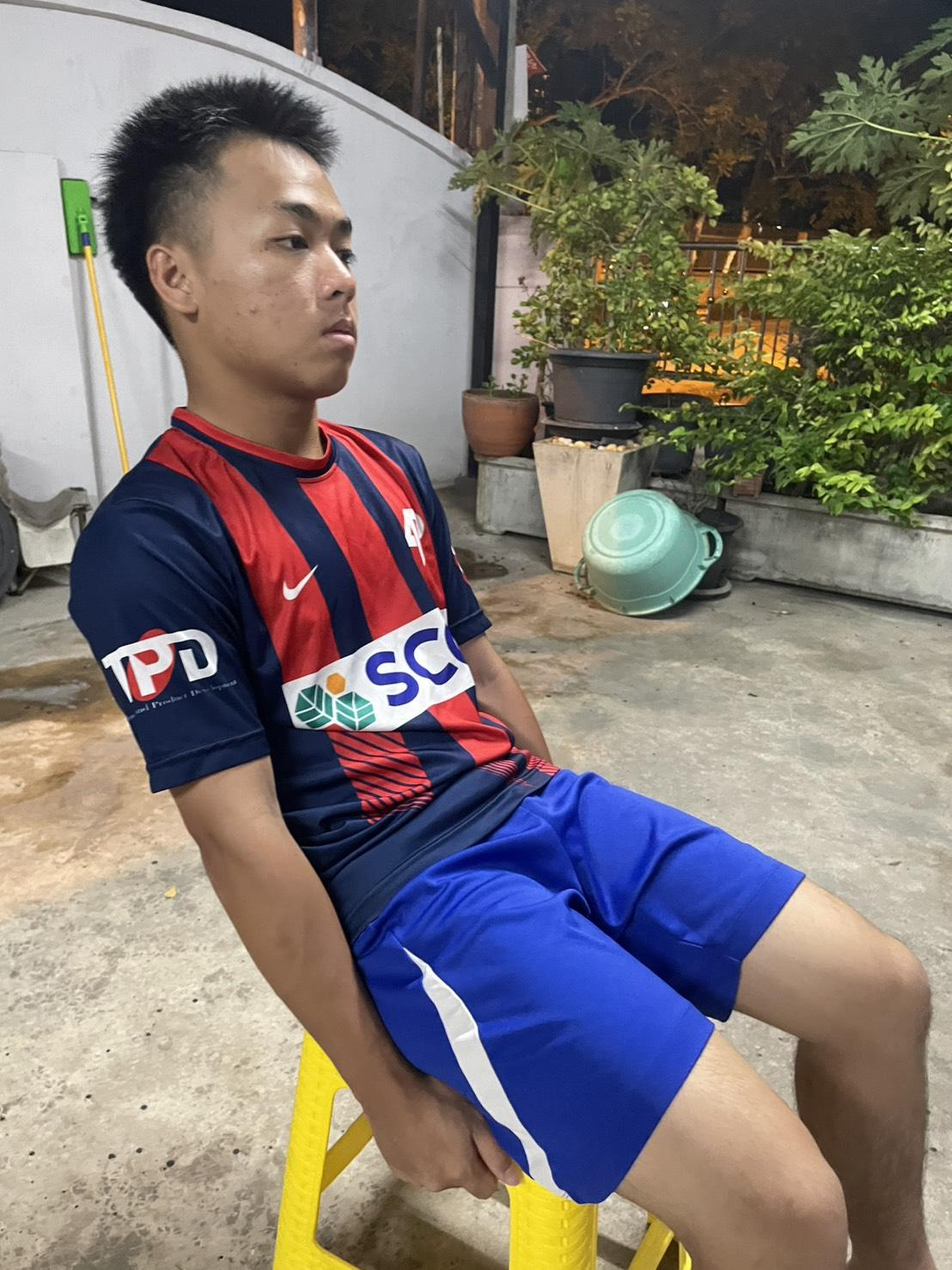BadPosture: (70, 77, 936, 1269), (70, 77, 556, 1034), (70, 77, 532, 906)
